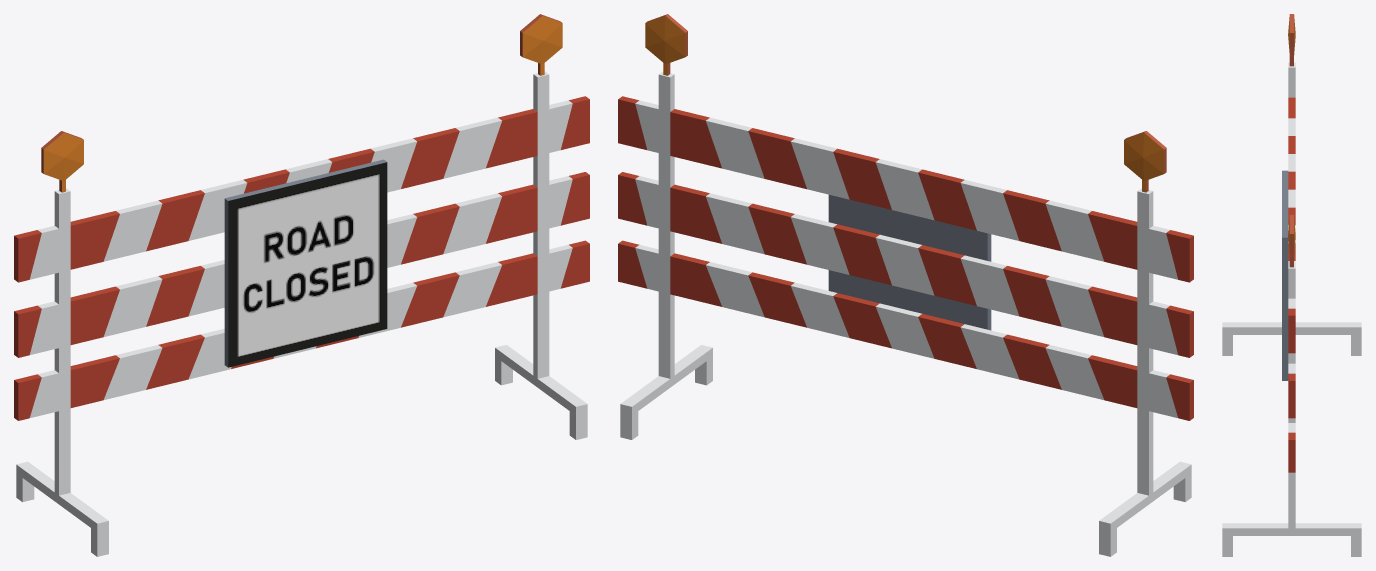
Rendered from Road_Objects_Road_Closed.fbx.
3 renders of one model, left to right at view 1: azimuth 30°, elevation 25°; view 2: azimuth 150°, elevation 25°; view 3: azimuth 270°, elevation 25°, orthographic. The views are drawn at different scales.
Visible parts, largest first — view 1: Road_Objects_Road_Closed; view 2: Road_Objects_Road_Closed; view 3: Road_Objects_Road_Closed.
Boxes of the visible parts, x1,y1,x2,y2 form: Road_Objects_Road_Closed: [14, 14, 589, 556]; Road_Objects_Road_Closed: [618, 14, 1193, 556]; Road_Objects_Road_Closed: [1222, 14, 1361, 556].
Bounding box in the file's own units: 200 × 132 × 49.08.
